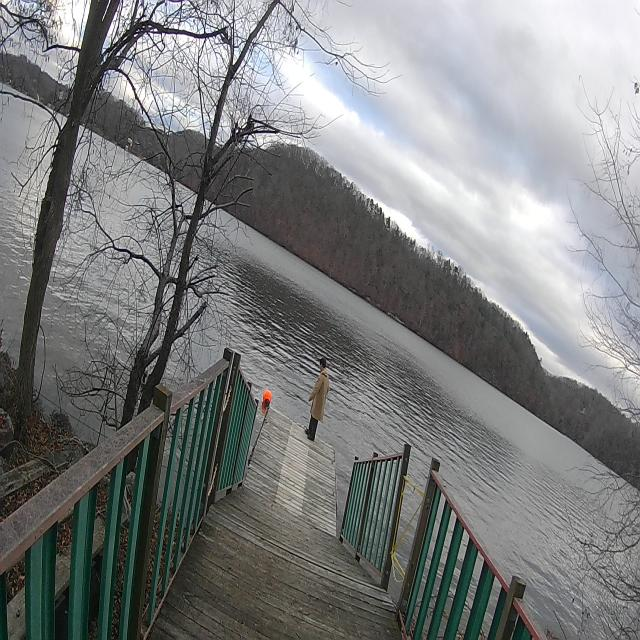Buoy: (261, 386, 274, 412)
